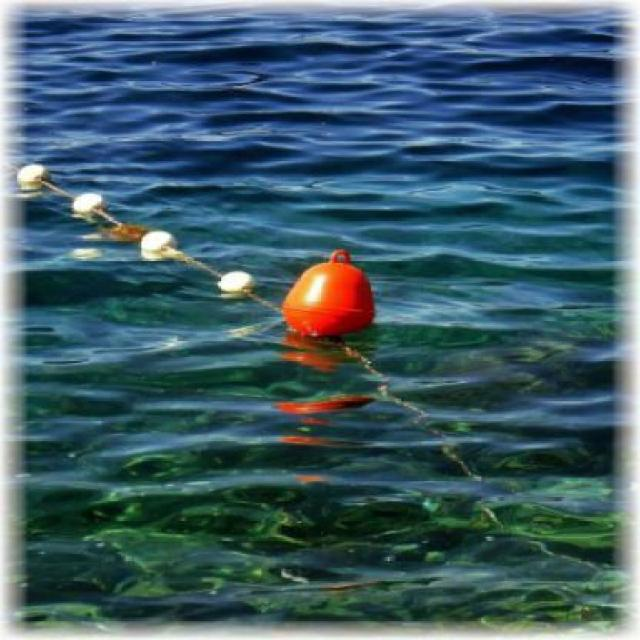a: (268, 243, 389, 350)
